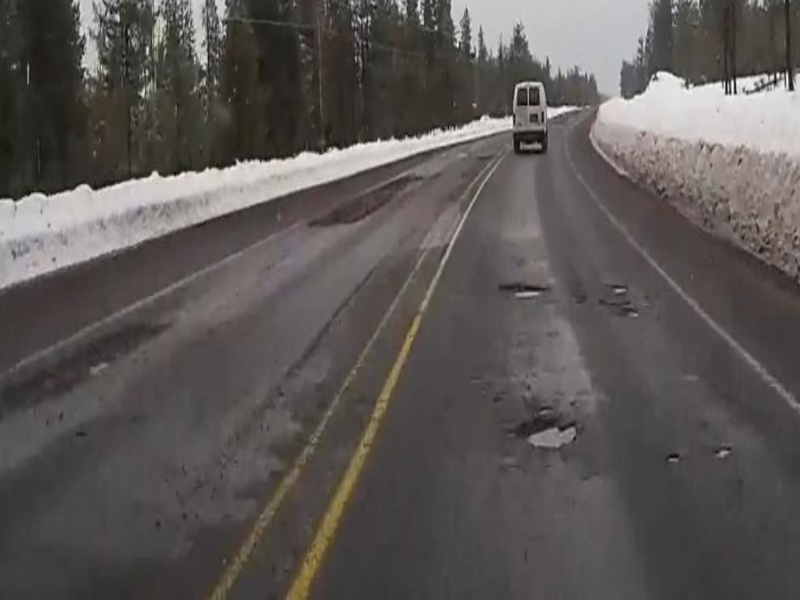pothole: (513, 411, 586, 451), (494, 282, 551, 301)
